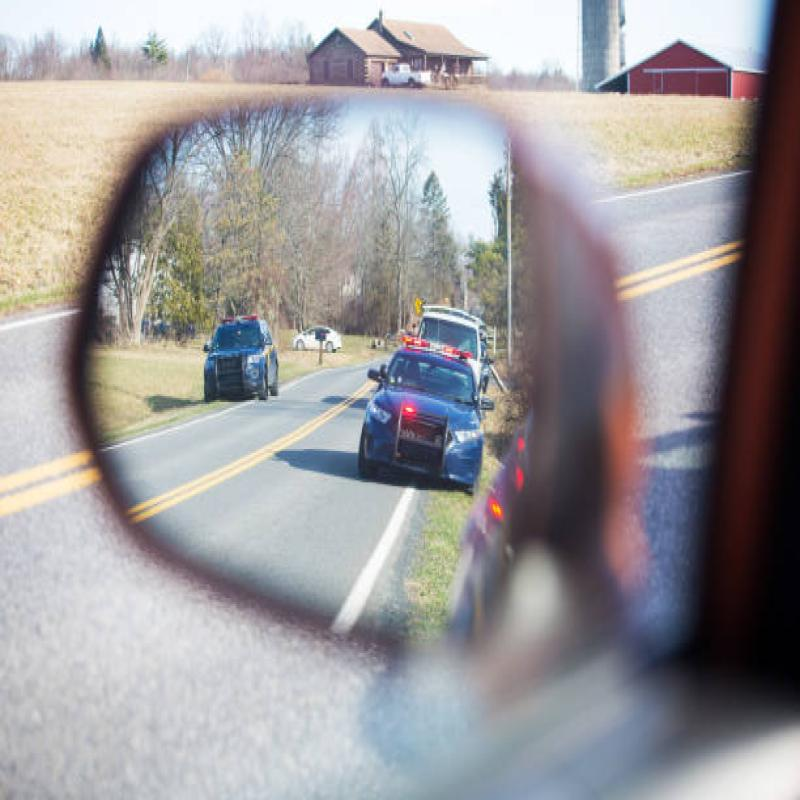AmbulanceSiren: (394, 321, 476, 367)
car: (180, 294, 286, 410)
